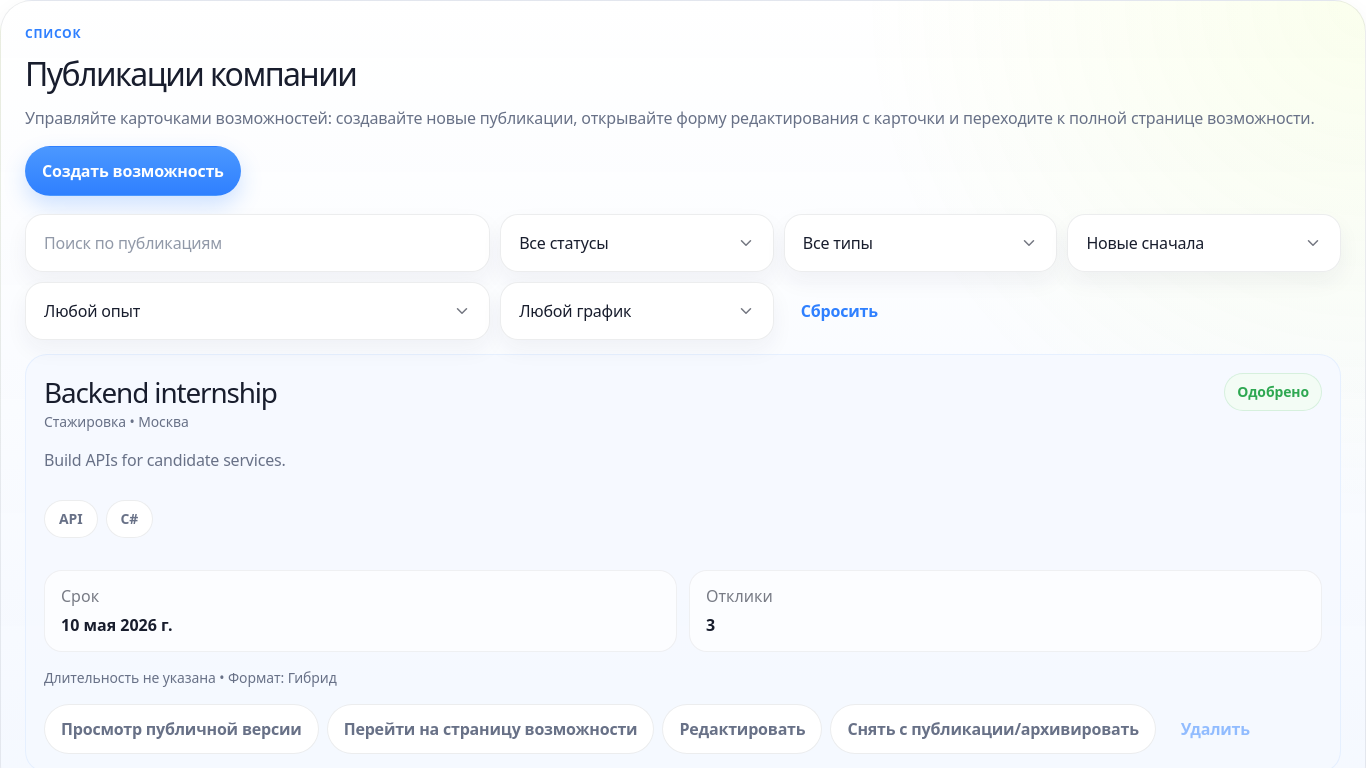
CompanyOpportunitiesSection › keeps the editor hidden until the user opens the create form
The width and height of the screenshot is (1366, 768).
Expected: the heading "Backend internship" is shown, [44,373,277,412]
Expected: the field labelled "Название" is not shown
Click the button "Создать возможность" at (133, 171), box [25,146,241,196]
(page scrolled)
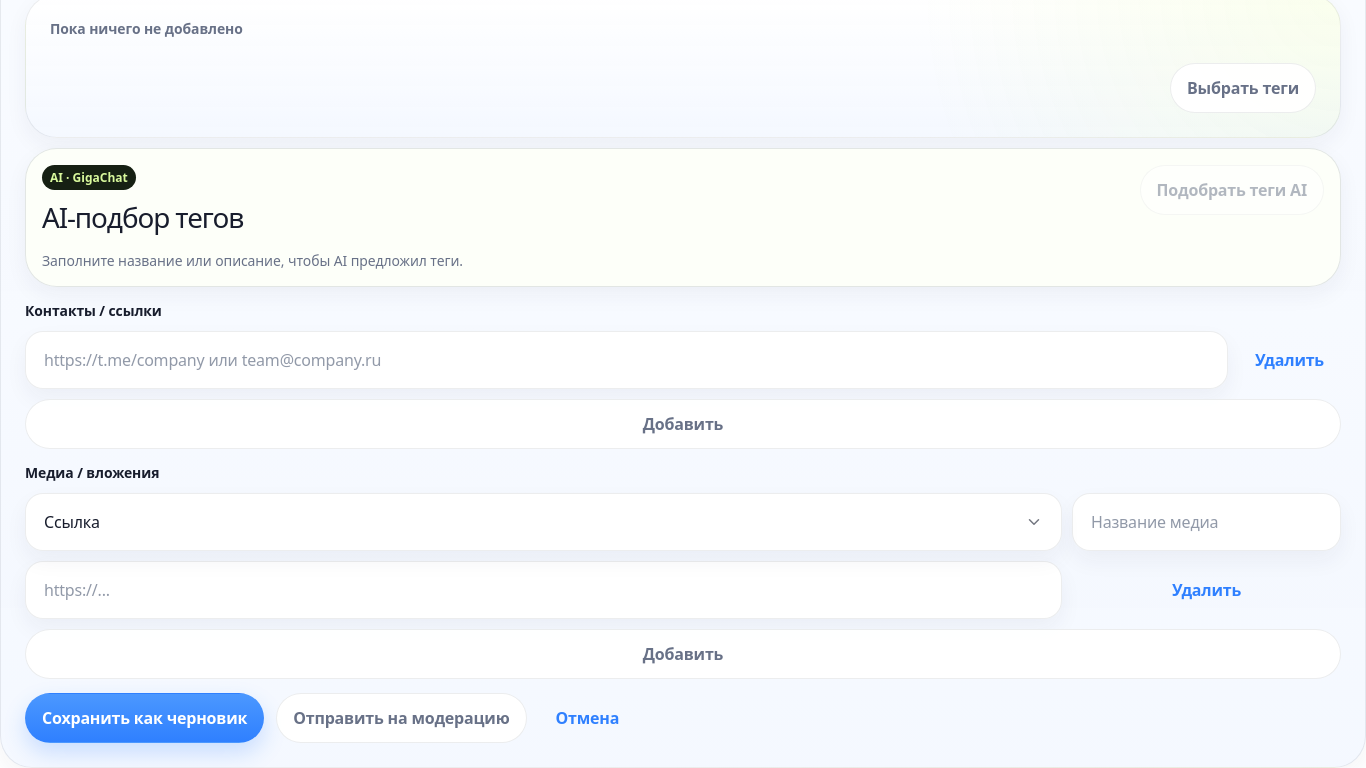
Now the button "Отмена" is shown, box [538,693,636,743]
